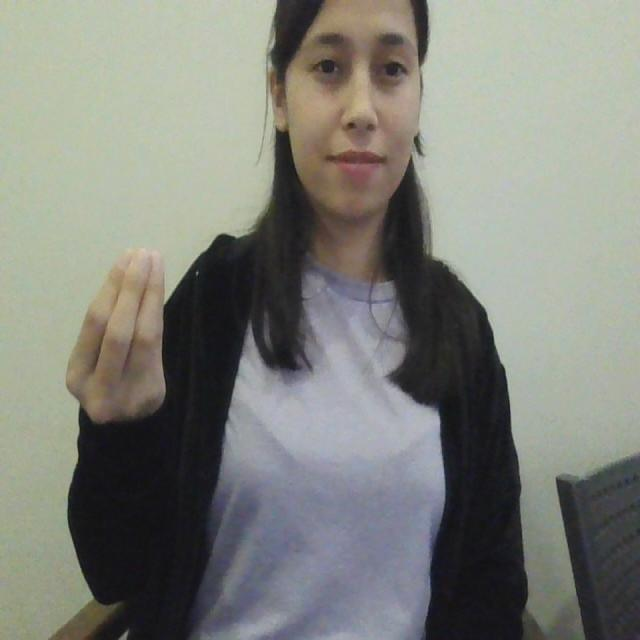iyi: (61, 243, 169, 432)
